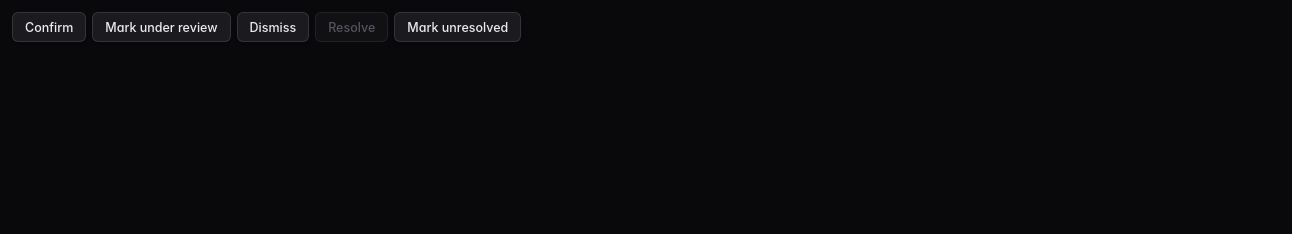
Test case: FindingActions › requires a note before dismissing
This screenshot has width=1292, height=234.
Click the button "Dismiss" at (273, 27), box [237,12,309,42]
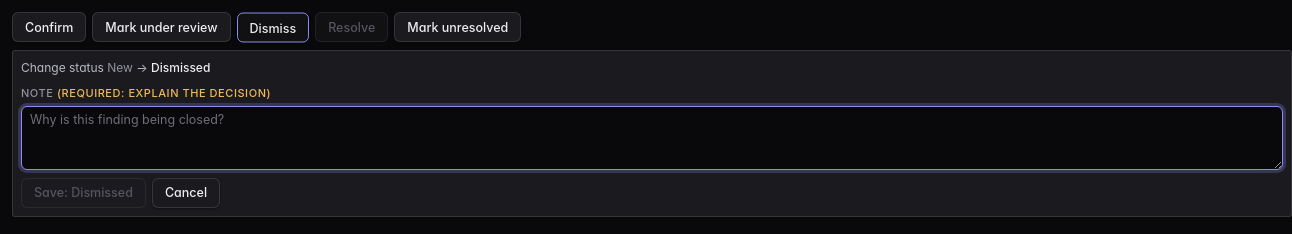
Now the button "Save: Dismissed" is disabled, box [21,178,146,208]
Type "False positive: expected test fixture access" into the text box at (652, 138), box [21,106,1283,170]
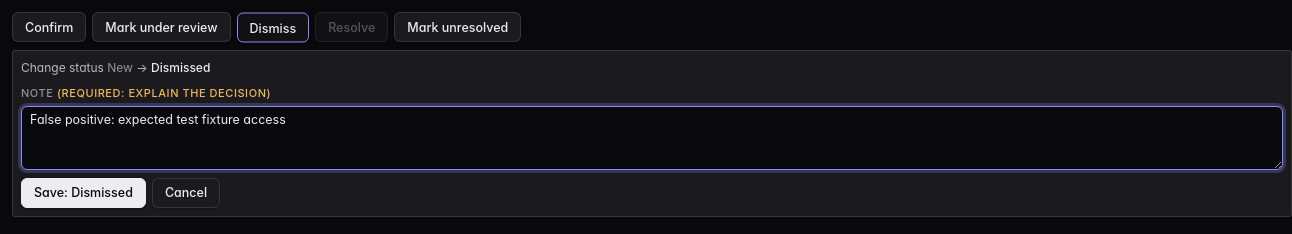
Now the button "Save: Dismissed" is enabled, box [21,178,146,208]
